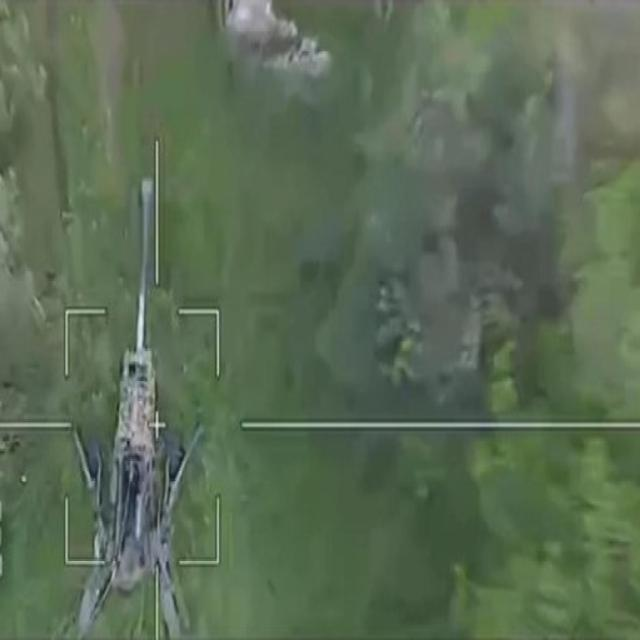ART: (72, 167, 202, 633)
